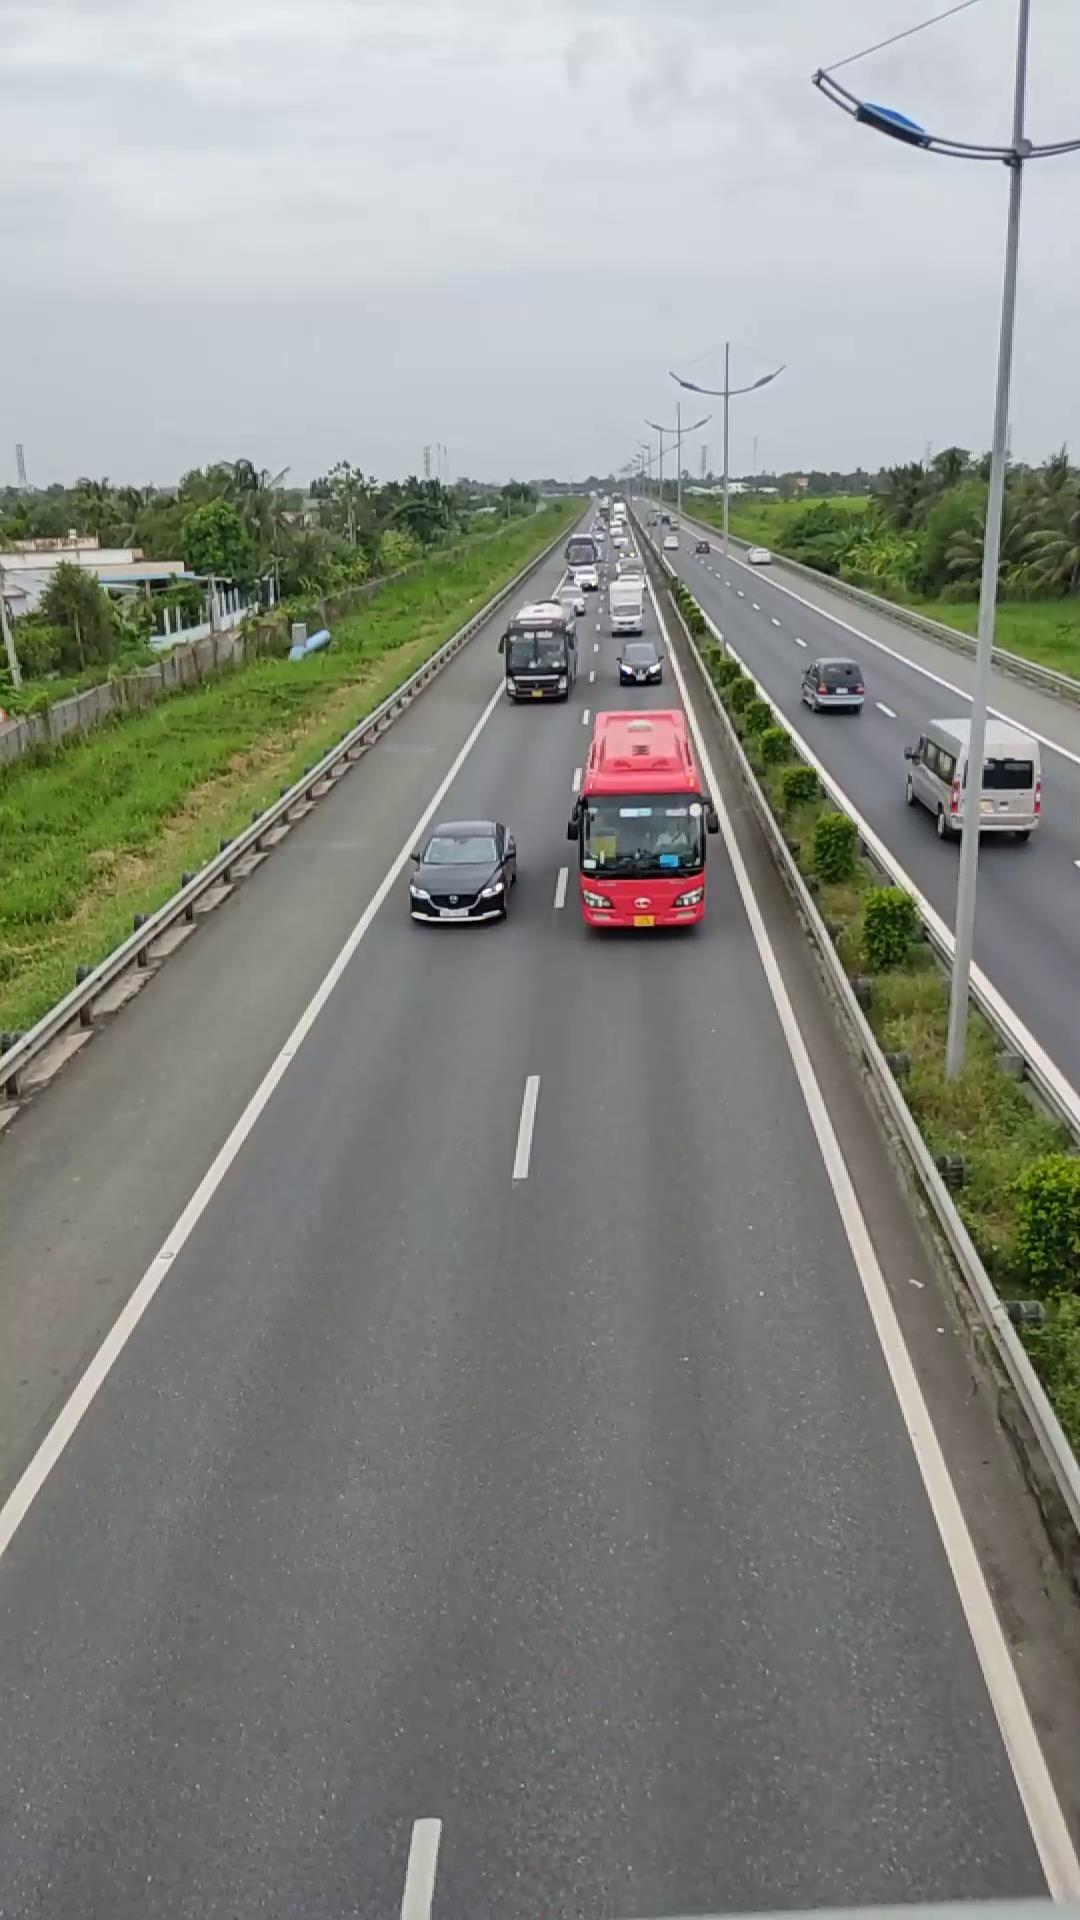bus: (564, 707, 713, 934), (501, 597, 578, 702)
car: (902, 711, 1046, 841), (406, 818, 520, 924)
